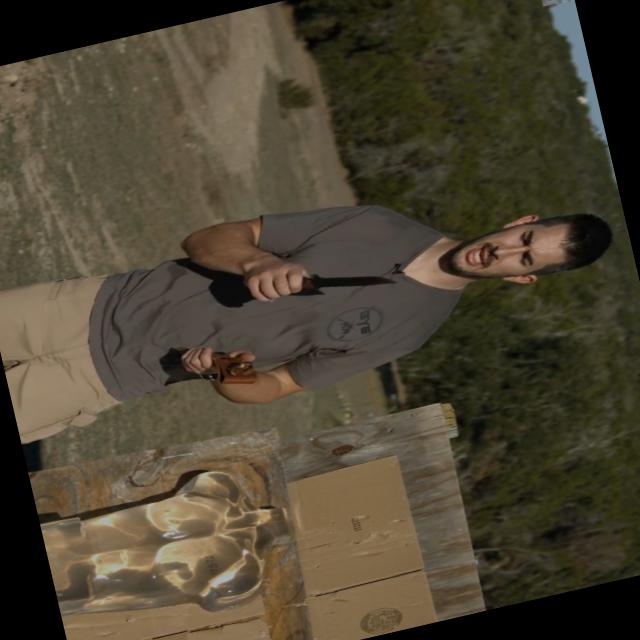knife: (248, 235, 410, 318)
